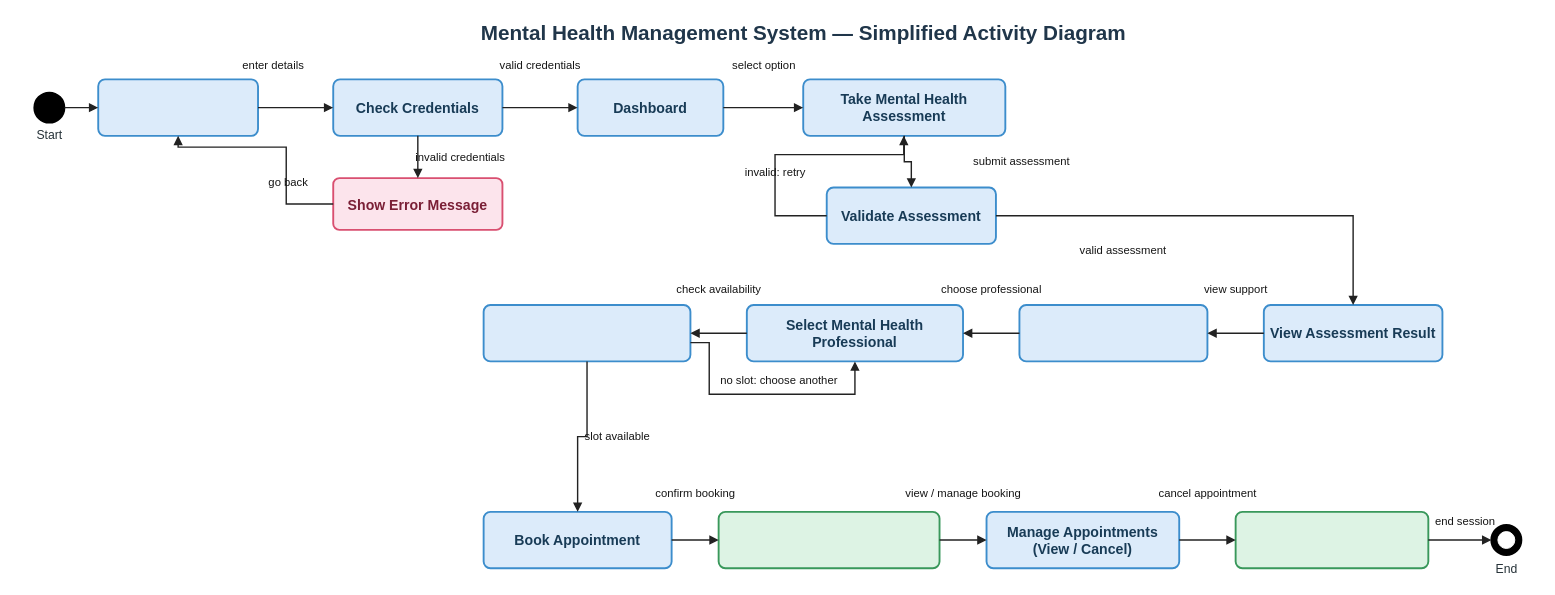
This 1555x595 diagram has some shape labels left out. Each missing label, with the centre of its shape:
Booking Confirmed + Reminder Sent: point 828,539
Cancellation Confirmed: point 1331,539
Check Appointment Availability: point 586,333
Login / Register: point 177,107
View Support / Resources: point 1113,333
